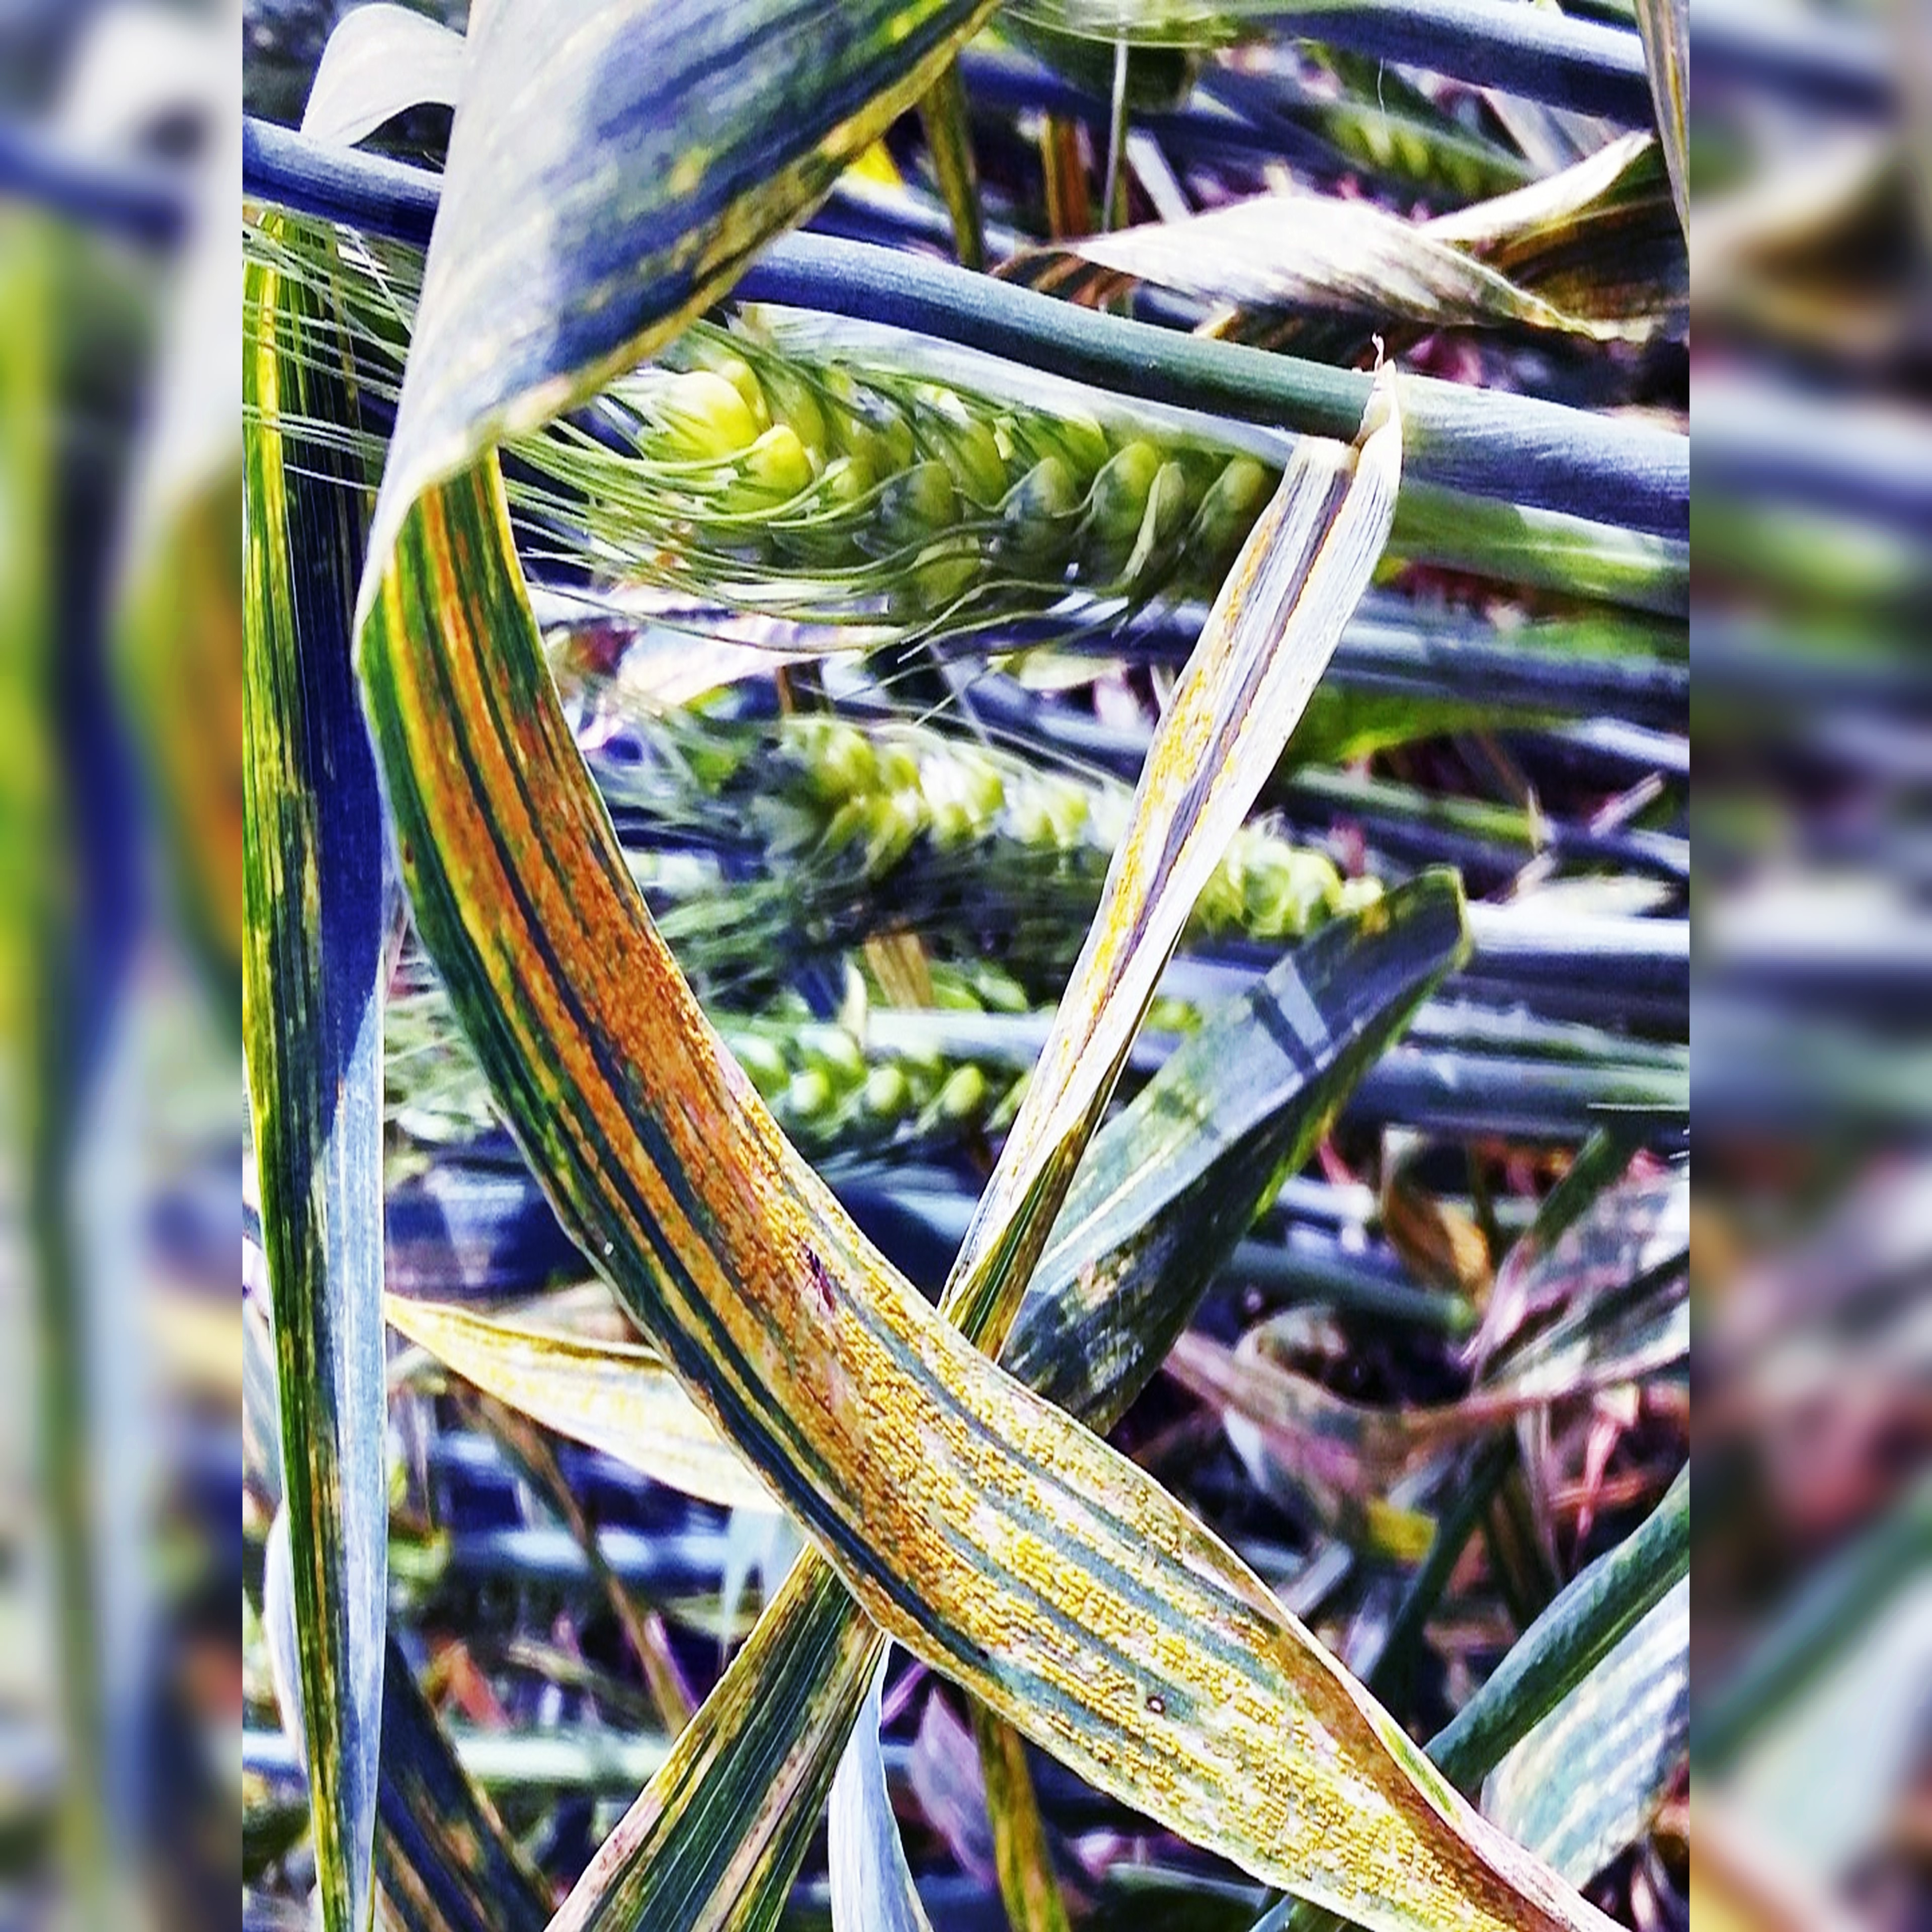Leaf Rust: (395, 722, 1320, 1821)
